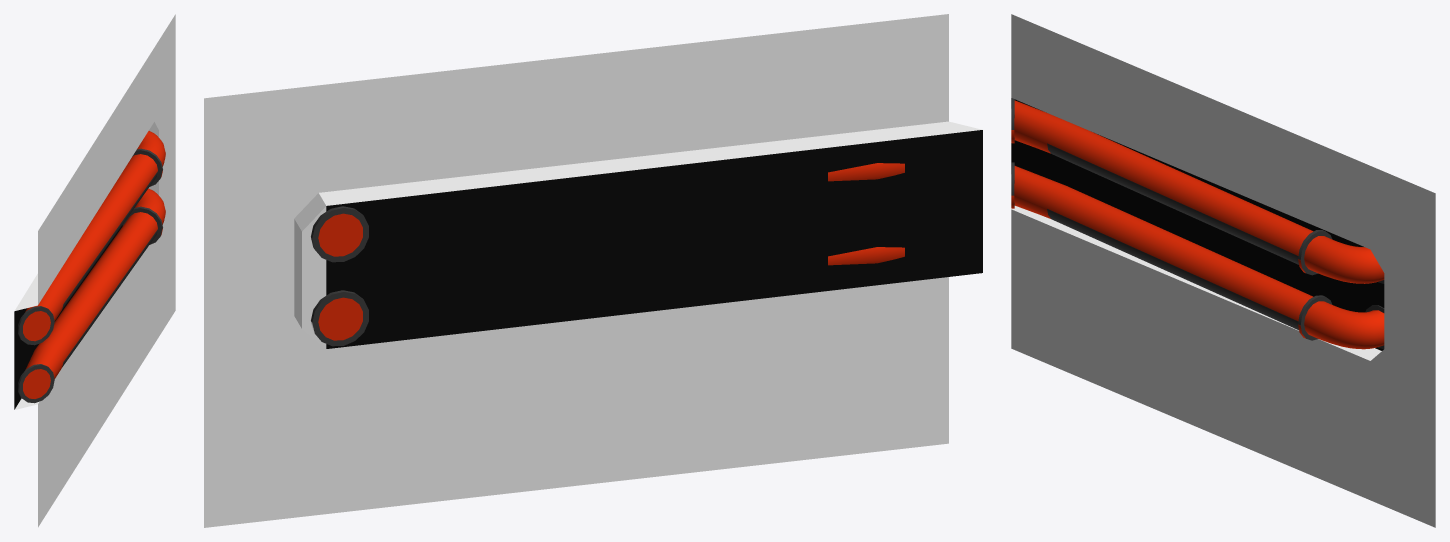
Rendered from S_assete_.fbx.
3 renders of one model, left to right at view 1: azimuth 30°, elevation 25°; view 2: azimuth 150°, elevation 25°; view 3: azimuth 270°, elevation 25°, orthographic. The views are drawn at different scales.
Parts seen in each view (by area): view 1: basement_wall_hard_inside_corner_midel_3; view 2: basement_wall_hard_inside_corner_midel_3; view 3: basement_wall_hard_inside_corner_midel_3.
Boxes of the visible parts, x1,y1,x2,y2 form: basement_wall_hard_inside_corner_midel_3: (14,14,175,527); basement_wall_hard_inside_corner_midel_3: (204,14,982,527); basement_wall_hard_inside_corner_midel_3: (1011,14,1435,527).
Bounding box in the file's own units: 247 × 200 × 230.
